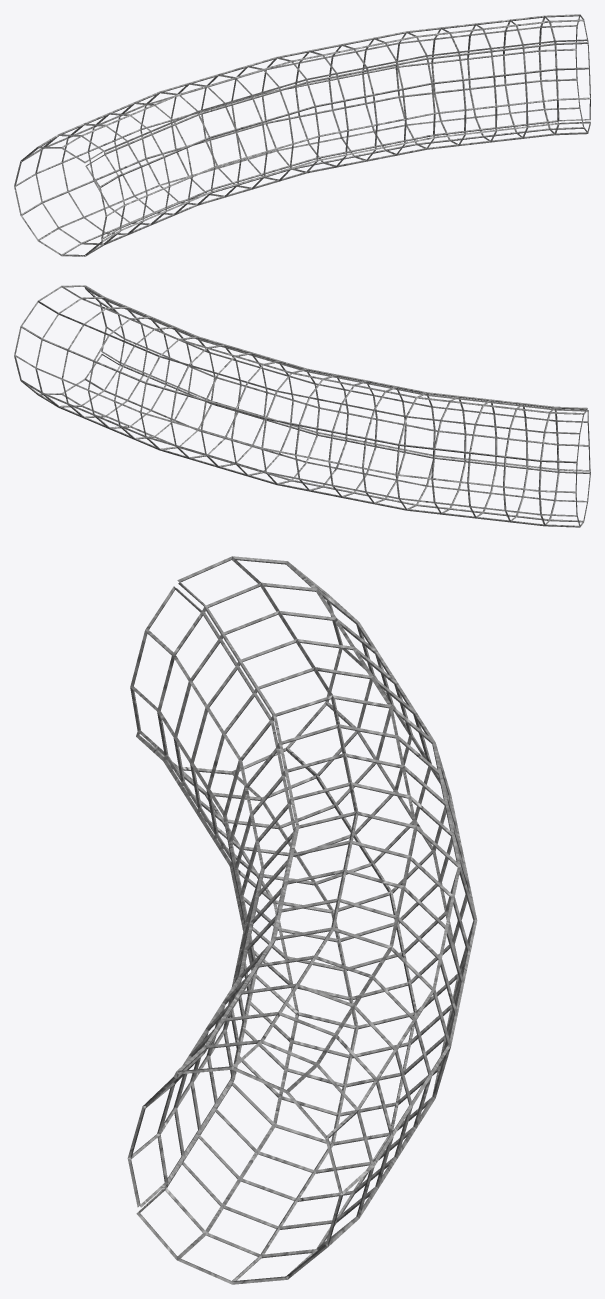
Rendered from FBX_ModuleEmpty.fbx.
3 views of the same model, one above another, from view 1: azimuth 30°, elevation 25°; view 2: azimuth 150°, elevation 25°; view 3: azimuth 270°, elevation 25° (orthographic). The views are drawn at different scales.
Parts seen in each view (by area): view 1: Module Empty Export; view 2: Module Empty Export; view 3: Module Empty Export.
Part boxes in pixels (bbox=[...]): Module Empty Export: bbox=[14, 14, 590, 256]; Module Empty Export: bbox=[14, 285, 590, 527]; Module Empty Export: bbox=[127, 556, 477, 1284].
Bounding box in the file's own units: 6.57 × 1.77 × 1.22.
